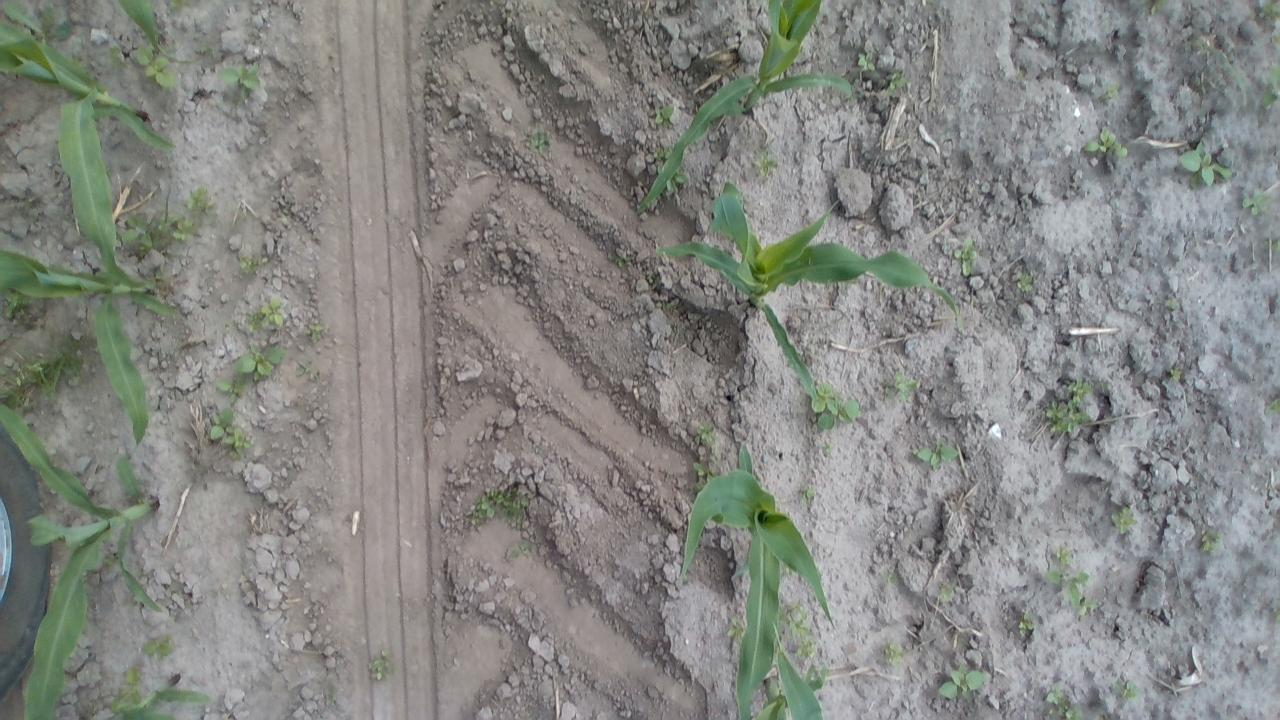Maize: (662, 181, 966, 398), (0, 88, 180, 444), (0, 402, 166, 720), (634, 0, 851, 211), (678, 442, 832, 720), (0, 22, 175, 152), (741, 634, 830, 720), (110, 0, 196, 67), (92, 677, 210, 720)
Weeds: (21, 328, 85, 402), (2, 0, 72, 48), (121, 212, 196, 256), (1178, 142, 1233, 190), (810, 384, 859, 429), (211, 408, 254, 458), (1216, 50, 1249, 107), (1045, 568, 1090, 609), (237, 344, 283, 382), (136, 42, 174, 88), (220, 60, 262, 100), (1046, 400, 1092, 435), (938, 664, 984, 698), (912, 437, 959, 469), (244, 298, 286, 332), (492, 486, 526, 526), (1044, 684, 1080, 720), (774, 600, 810, 636), (1082, 130, 1128, 158), (187, 184, 220, 222), (112, 668, 140, 709), (884, 371, 920, 402), (0, 287, 30, 323), (954, 236, 979, 276), (1238, 187, 1274, 212), (1259, 66, 1280, 106), (1067, 376, 1094, 406), (370, 650, 396, 681), (470, 496, 495, 527), (218, 377, 246, 404), (142, 635, 172, 660), (0, 382, 23, 414), (1112, 507, 1136, 534), (652, 104, 676, 129), (755, 148, 776, 176), (1198, 530, 1221, 554), (727, 617, 747, 644), (1114, 680, 1142, 699), (664, 168, 686, 192), (884, 640, 904, 666), (1096, 79, 1119, 101), (1013, 268, 1034, 292), (654, 144, 672, 172), (692, 462, 716, 483), (795, 636, 817, 658), (694, 422, 716, 444), (1257, 0, 1280, 21), (888, 71, 908, 95), (530, 130, 550, 154), (1141, 0, 1168, 17), (237, 253, 258, 274), (106, 44, 123, 69), (1078, 596, 1099, 616), (144, 271, 166, 290), (1017, 614, 1034, 636), (294, 358, 314, 376), (305, 324, 325, 342), (1054, 546, 1072, 564), (936, 584, 954, 602), (859, 52, 876, 70), (1189, 37, 1208, 52), (1265, 396, 1280, 414), (198, 42, 213, 60), (164, 0, 190, 10), (800, 487, 814, 505), (102, 556, 120, 569), (1264, 238, 1280, 252), (1012, 71, 1028, 84), (886, 569, 899, 584), (1170, 367, 1182, 382), (519, 541, 531, 554), (1271, 29, 1280, 46), (612, 254, 624, 266), (1164, 300, 1178, 310), (693, 482, 707, 492), (68, 55, 80, 66), (844, 93, 855, 102), (0, 367, 11, 376), (1275, 606, 1280, 623), (647, 274, 655, 284), (824, 444, 834, 452), (666, 302, 674, 310), (1092, 715, 1104, 720), (625, 256, 632, 262), (655, 302, 662, 308)
